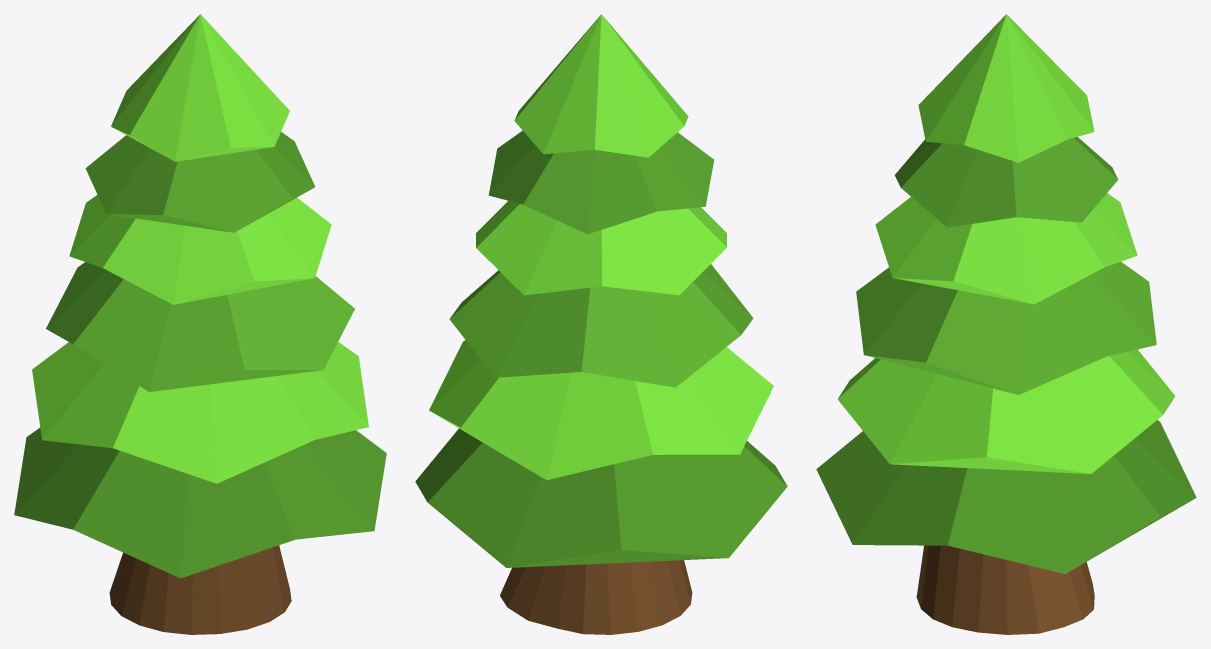
The model's file is tree-pine-a.glb.
The picture shows the model from 3 angles, left to right: view 1: azimuth 30°, elevation 25°; view 2: azimuth 150°, elevation 25°; view 3: azimuth 270°, elevation 25°; orthographic projection.
Size of the model in its own units: 5.25 by 9.33 by 5.52.
